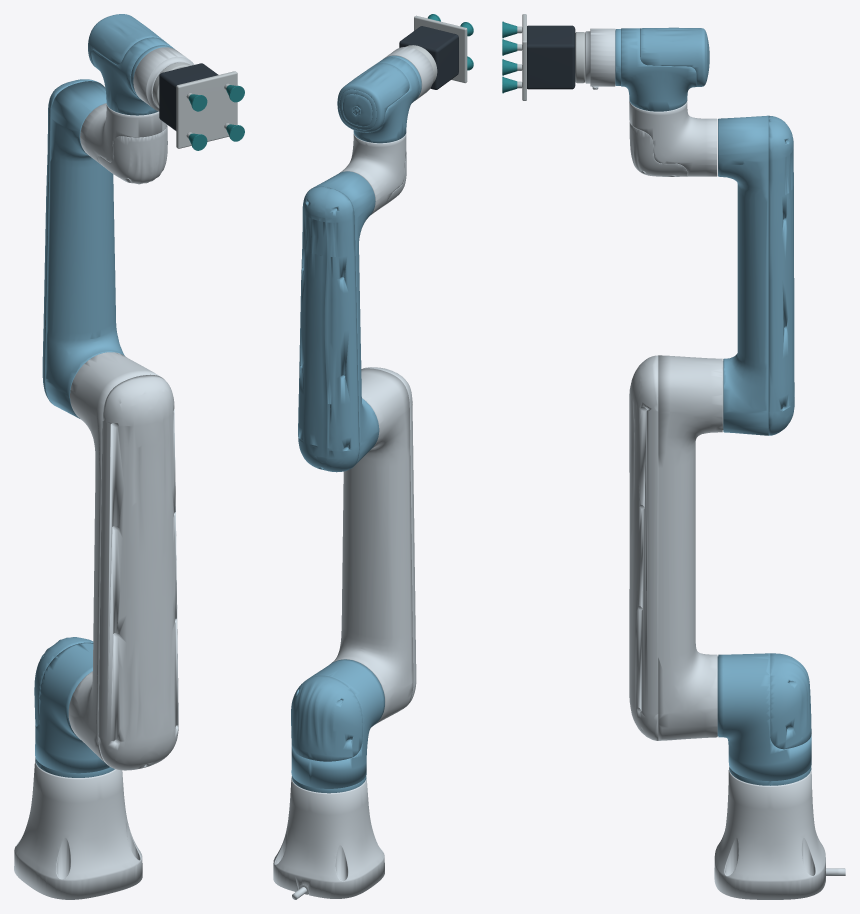
Rendered from nova5_suction.glb.
3 views of the same model, side by side, from view 1: azimuth 30°, elevation 25°; view 2: azimuth 150°, elevation 25°; view 3: azimuth 270°, elevation 25° (orthographic). The views are drawn at different scales.
Parts seen in each view (by area): view 1: nova5_suction / Link2 visual, nova5_suction / Link3 visual, nova5_suction / base_link visual, nova5_suction / Link1 visual, nova5_suction / Link4 visual, nova5_suction / Link5 visual, 80 x 80 mm suction face, Suction head body, nova5_suction / Link6 visual; view 2: nova5_suction / Link2 visual, nova5_suction / Link3 visual, nova5_suction / base_link visual, nova5_suction / Link1 visual, nova5_suction / Link5 visual, nova5_suction / Link4 visual, Suction head body, 80 x 80 mm suction face, nova5_suction / Link6 visual; view 3: nova5_suction / Link2 visual, nova5_suction / Link3 visual, nova5_suction / base_link visual, nova5_suction / Link1 visual, nova5_suction / Link5 visual, nova5_suction / Link4 visual, Suction head body, nova5_suction / Link6 visual.
Part boxes in pixels (box(x1,y1,x2,y2)): nova5_suction / Link2 visual: box(68, 352, 178, 770); nova5_suction / Link3 visual: box(42, 79, 124, 418); nova5_suction / base_link visual: box(14, 759, 142, 899); nova5_suction / Link1 visual: box(34, 637, 114, 777); nova5_suction / Link4 visual: box(80, 103, 167, 184); nova5_suction / Link5 visual: box(88, 14, 175, 115); 80 x 80 mm suction face: box(176, 71, 237, 148); Suction head body: box(159, 63, 218, 130); nova5_suction / Link6 visual: box(133, 47, 194, 111); nova5_suction / Link2 visual: box(331, 367, 416, 724); nova5_suction / Link3 visual: box(298, 171, 379, 472); nova5_suction / base_link visual: box(273, 776, 384, 899); nova5_suction / Link1 visual: box(291, 659, 384, 793); nova5_suction / Link5 visual: box(337, 55, 421, 143); nova5_suction / Link4 visual: box(340, 133, 406, 214); Suction head body: box(399, 26, 458, 89); 80 x 80 mm suction face: box(414, 15, 467, 83); nova5_suction / Link6 visual: box(383, 47, 433, 100); nova5_suction / Link2 visual: box(629, 355, 723, 740); nova5_suction / Link3 visual: box(718, 115, 794, 435); nova5_suction / base_link visual: box(714, 768, 845, 899); nova5_suction / Link1 visual: box(717, 653, 811, 785); nova5_suction / Link5 visual: box(615, 27, 709, 111); nova5_suction / Link4 visual: box(629, 100, 717, 176); Suction head body: box(527, 25, 575, 89); nova5_suction / Link6 visual: box(585, 28, 615, 89).
Size of the model in its own units: 0.135 by 1.13 by 0.4143.
